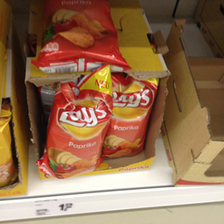chips: (40, 70, 111, 179), (39, 1, 128, 72), (105, 76, 156, 162)
